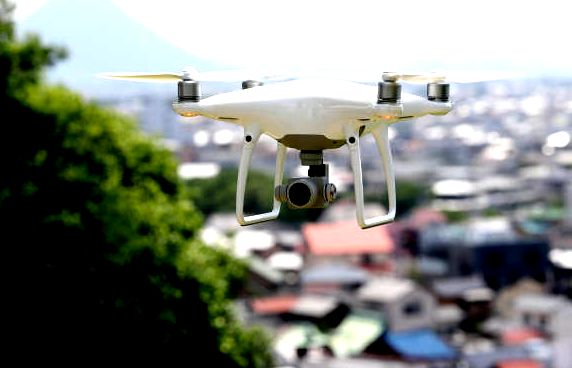Drone: (94, 67, 508, 231)
